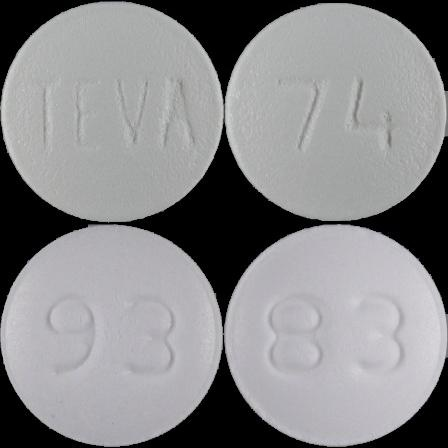0093-0074: (0, 0, 224, 224)
